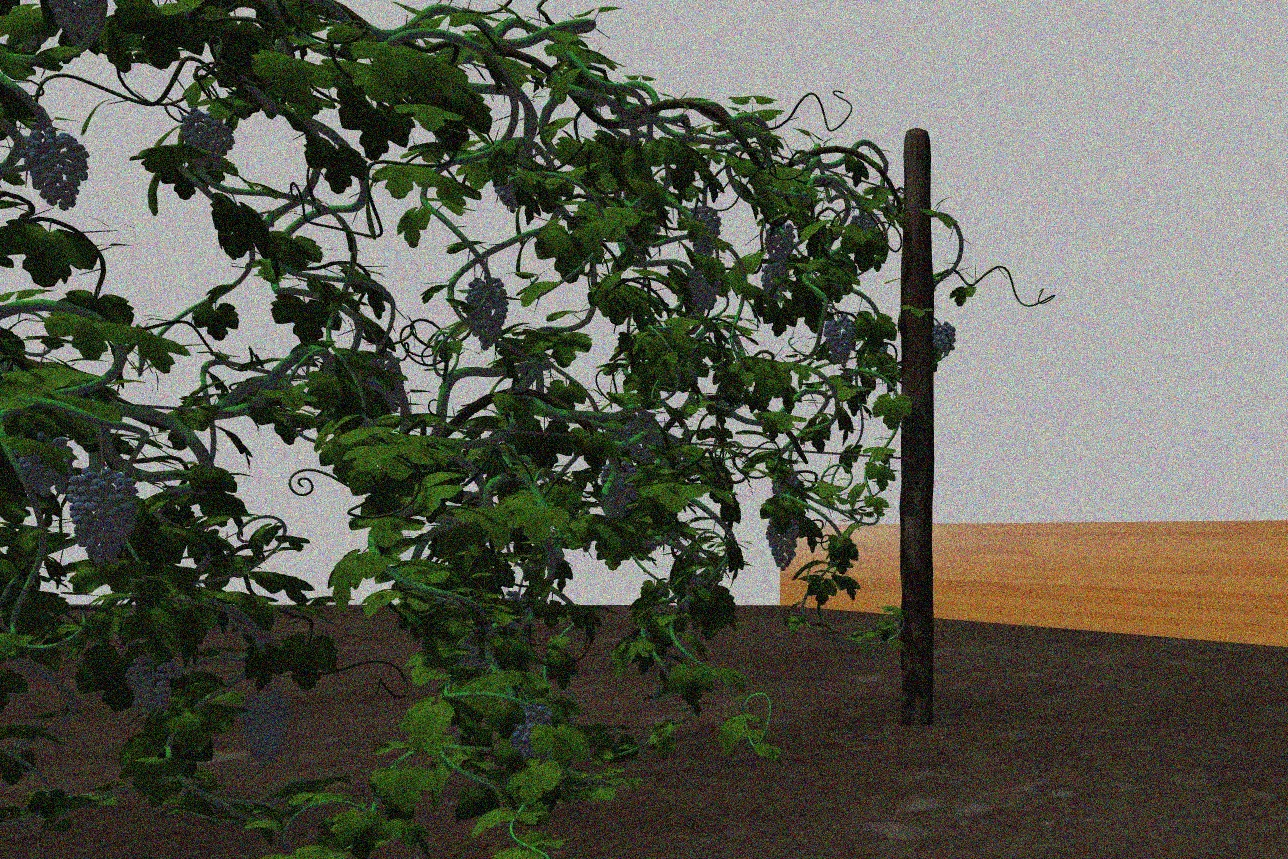grape: (65, 465, 139, 567), (20, 129, 89, 210), (240, 687, 293, 771), (17, 434, 74, 499), (125, 655, 182, 717), (465, 276, 509, 350), (180, 111, 235, 167), (512, 705, 552, 759), (50, 2, 101, 44), (600, 461, 636, 519), (624, 415, 662, 466), (765, 517, 801, 570), (823, 312, 856, 368), (687, 205, 722, 257), (688, 268, 722, 309), (765, 224, 796, 263), (760, 262, 789, 297), (932, 321, 958, 357)
